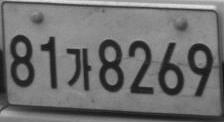1: (38, 35, 63, 89)
2: (127, 39, 154, 95)
6: (157, 41, 185, 96)
8: (9, 33, 35, 88), (98, 38, 124, 93)
9: (187, 42, 214, 96)
가: (65, 47, 92, 90)
